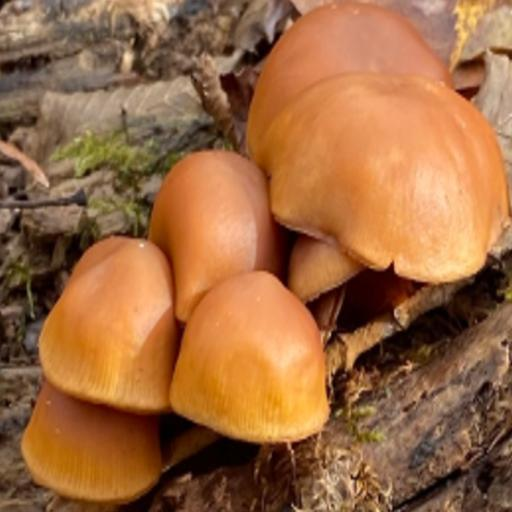mushroom: (20, 2, 511, 495)
